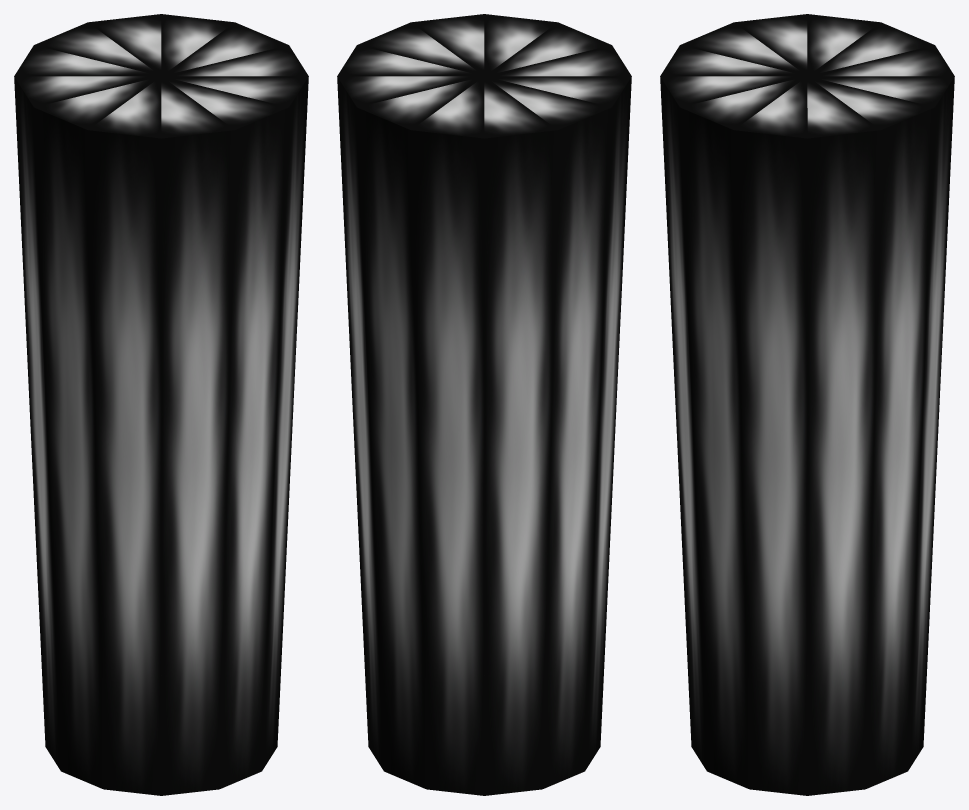
The model's file is lavasteam.obj.
3 renders of one model, left to right at view 1: azimuth 30°, elevation 25°; view 2: azimuth 150°, elevation 25°; view 3: azimuth 270°, elevation 25°, orthographic.
Visible parts, largest first — view 1: lavasteam; view 2: lavasteam; view 3: lavasteam.
Boxes of the visible parts, x1,y1,x2,y2 form: lavasteam: [14, 14, 308, 795]; lavasteam: [337, 14, 631, 795]; lavasteam: [660, 14, 954, 795].
Size of the model in its own units: 20.25 by 50.83 by 20.25.
Materials: 1 (1 with a texture image).
